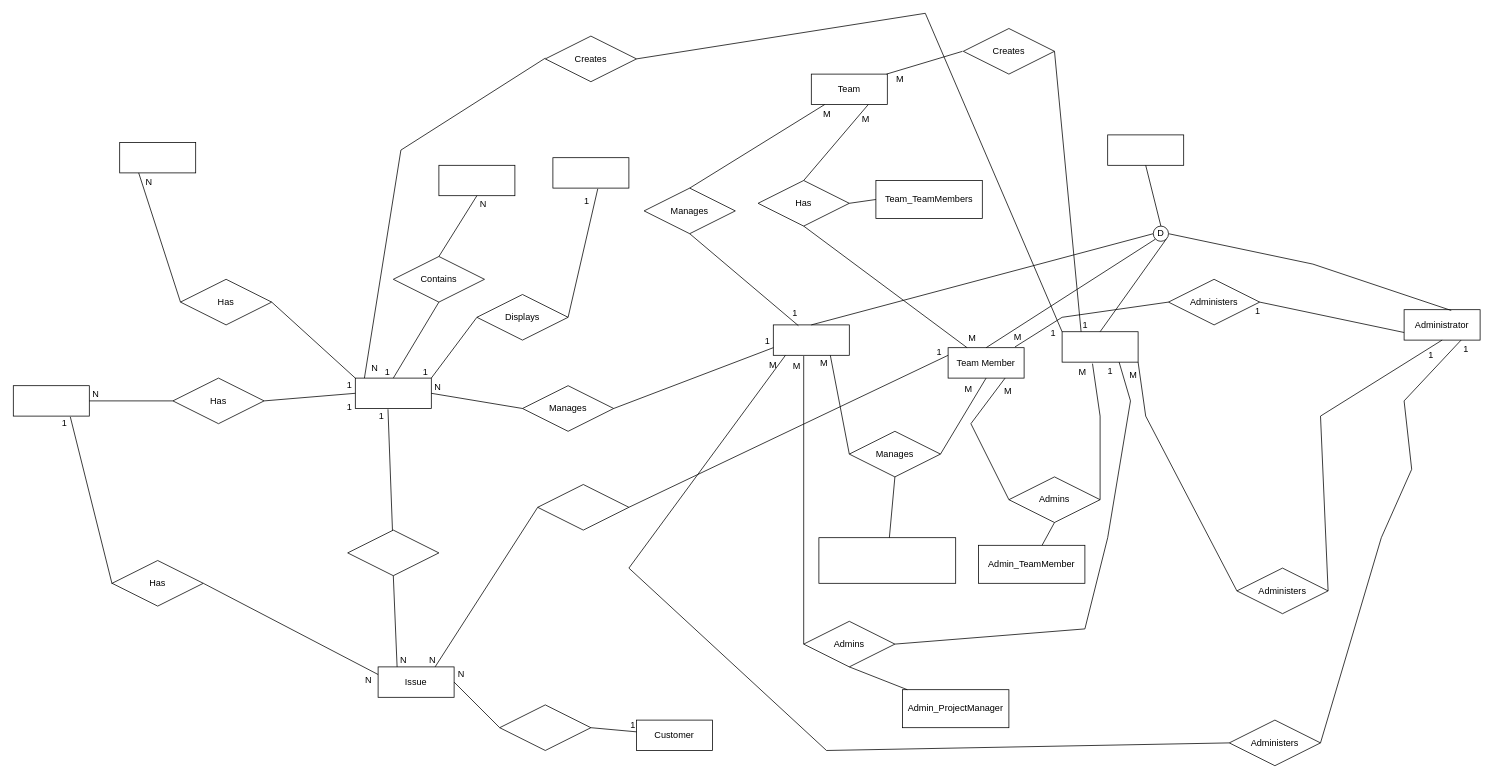
The diagram is 1493 pixels wide and 779 high, and some of its shapes have lost their labels. The box of each missing label's shape, as (x1, y1, x2, y2) in pixels:
Adds: (499, 704, 591, 750)
Admin: (1061, 331, 1138, 362)
Board: (552, 157, 629, 188)
Project: (355, 377, 431, 408)
Project Manager: (773, 324, 849, 355)
ProjectManager_TeamMember: (818, 537, 956, 583)
Solves: (347, 529, 439, 576)
Sprint: (13, 385, 89, 416)
User: (1107, 134, 1184, 165)
Version: (438, 165, 515, 196)
Workflow: (119, 142, 196, 173)
Works On: (537, 484, 629, 530)
